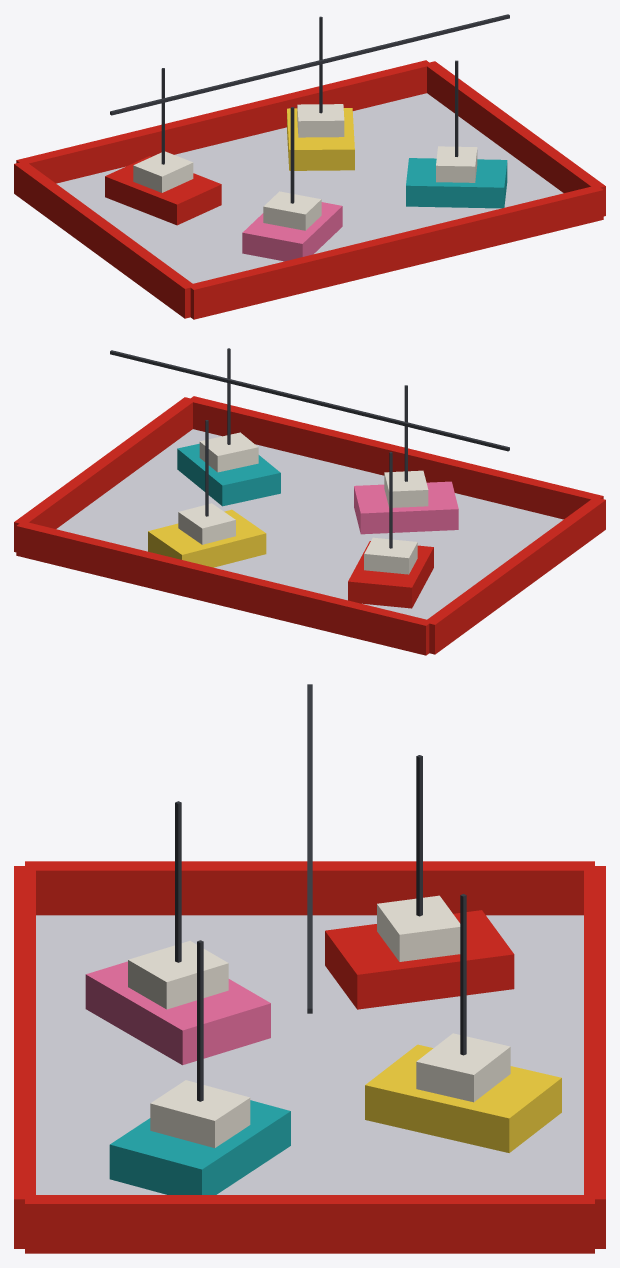
Rendered from bumper_cars_ring.glb.
The picture shows the model from 3 angles, top to bottom: view 1: azimuth 30°, elevation 25°; view 2: azimuth 150°, elevation 25°; view 3: azimuth 270°, elevation 25°; orthographic projection. The views are drawn at different scales.
Visible parts, largest first — view 1: bumper_cars_ring; view 2: bumper_cars_ring; view 3: bumper_cars_ring.
Part boxes in pixels (<box>): bumper_cars_ring: <box>14,14,605,319</box>; bumper_cars_ring: <box>14,348,605,655</box>; bumper_cars_ring: <box>14,684,605,1253</box>.
Size of the model in its own units: 7.4 by 2.43 by 5.4.
